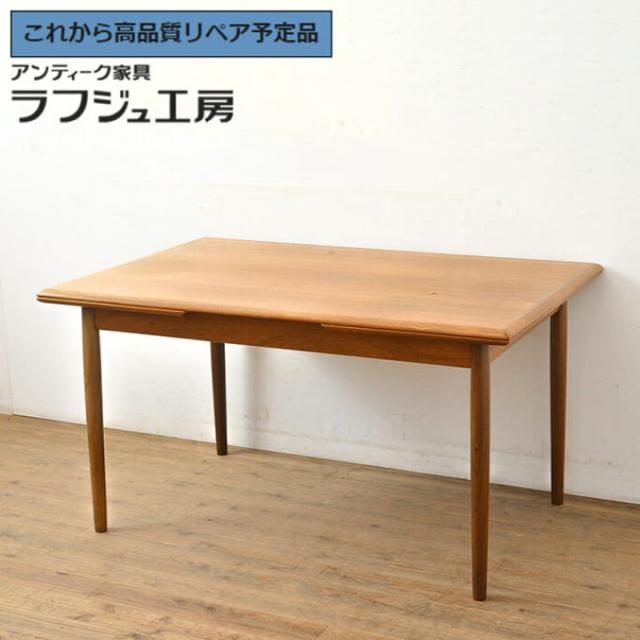vintage desk: (42, 232, 600, 602)
